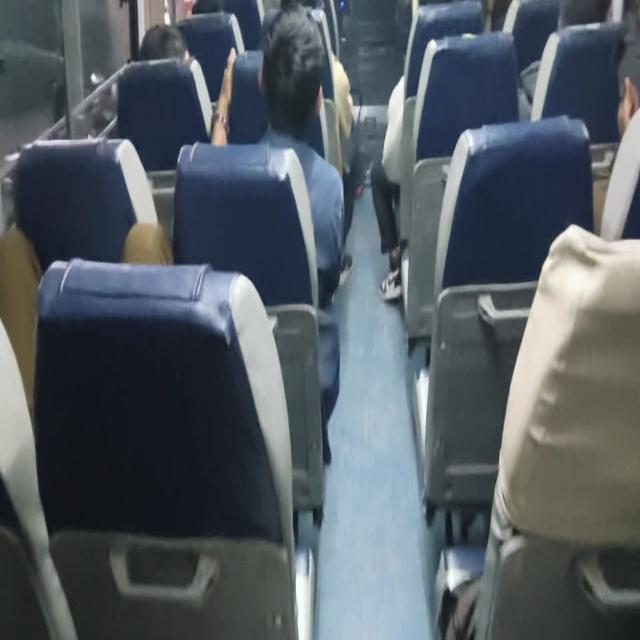person: (471, 36, 639, 638), (210, 5, 348, 303), (370, 0, 486, 301), (138, 22, 213, 135), (599, 42, 639, 242), (138, 22, 190, 62)
